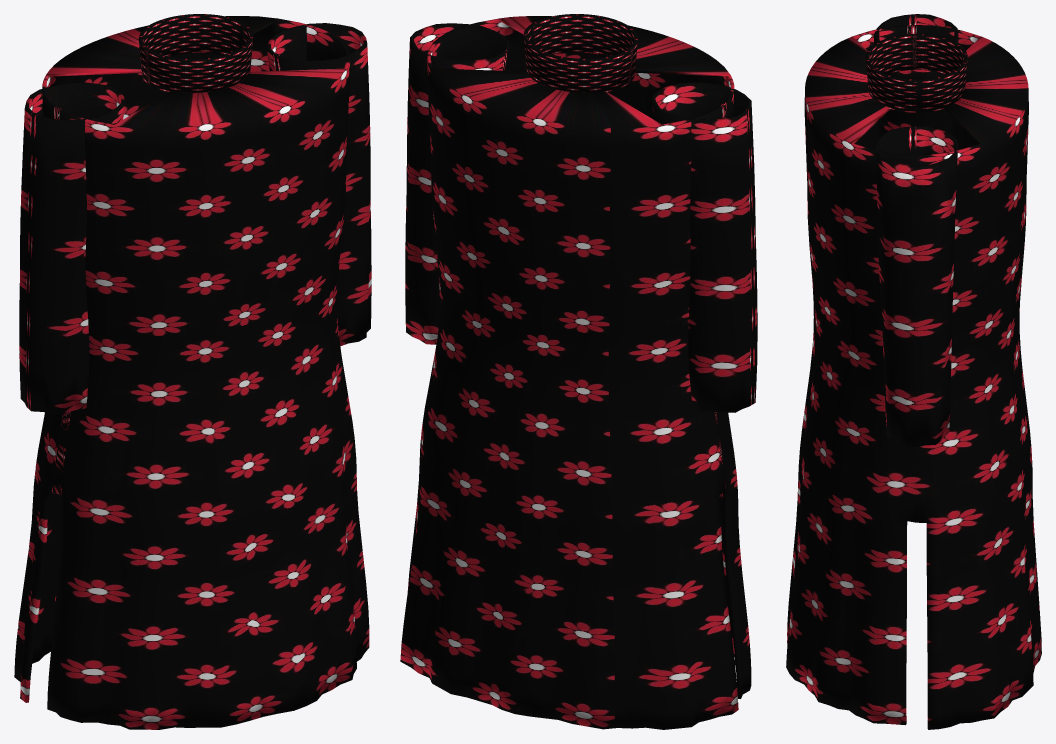
The model's file is kurti.glb.
The picture shows the model from 3 angles, left to right: view 1: azimuth 30°, elevation 25°; view 2: azimuth 150°, elevation 25°; view 3: azimuth 270°, elevation 25°; orthographic projection. The views are drawn at different scales.
Parts seen in each view (by area): view 1: KurtiBody_normal, Sleeve_L_normal, Sleeve_R_normal, Collar_normal; view 2: KurtiBody_normal, Sleeve_L_normal, Sleeve_R_normal, Collar_normal; view 3: KurtiBody_normal, Sleeve_R_normal, Collar_normal, Sleeve_L_normal.
Part boxes in pixels (bbox=[...]): KurtiBody_normal: bbox=[14, 16, 369, 729]; Sleeve_L_normal: bbox=[19, 82, 125, 413]; Sleeve_R_normal: bbox=[266, 23, 371, 346]; Collar_normal: bbox=[138, 14, 253, 92]; KurtiBody_normal: bbox=[400, 16, 751, 729]; Sleeve_L_normal: bbox=[651, 82, 757, 412]; Sleeve_R_normal: bbox=[405, 23, 509, 344]; Collar_normal: bbox=[523, 14, 637, 92]; KurtiBody_normal: bbox=[786, 25, 1041, 729]; Sleeve_R_normal: bbox=[873, 126, 958, 447]; Collar_normal: bbox=[865, 34, 967, 112]; Sleeve_L_normal: bbox=[873, 14, 958, 137].
Size of the model in its own units: 0.4608 by 0.8053 by 0.3128.
Materials: 1 (1 with a texture image).
